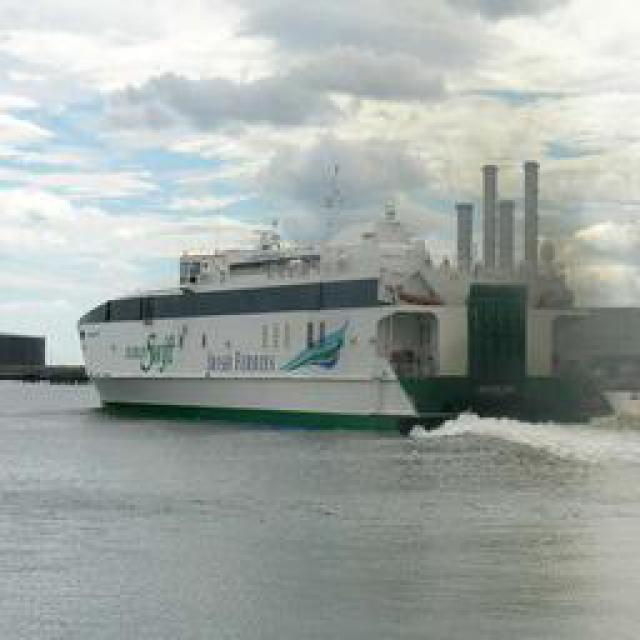Ship: (87, 216, 517, 429)
